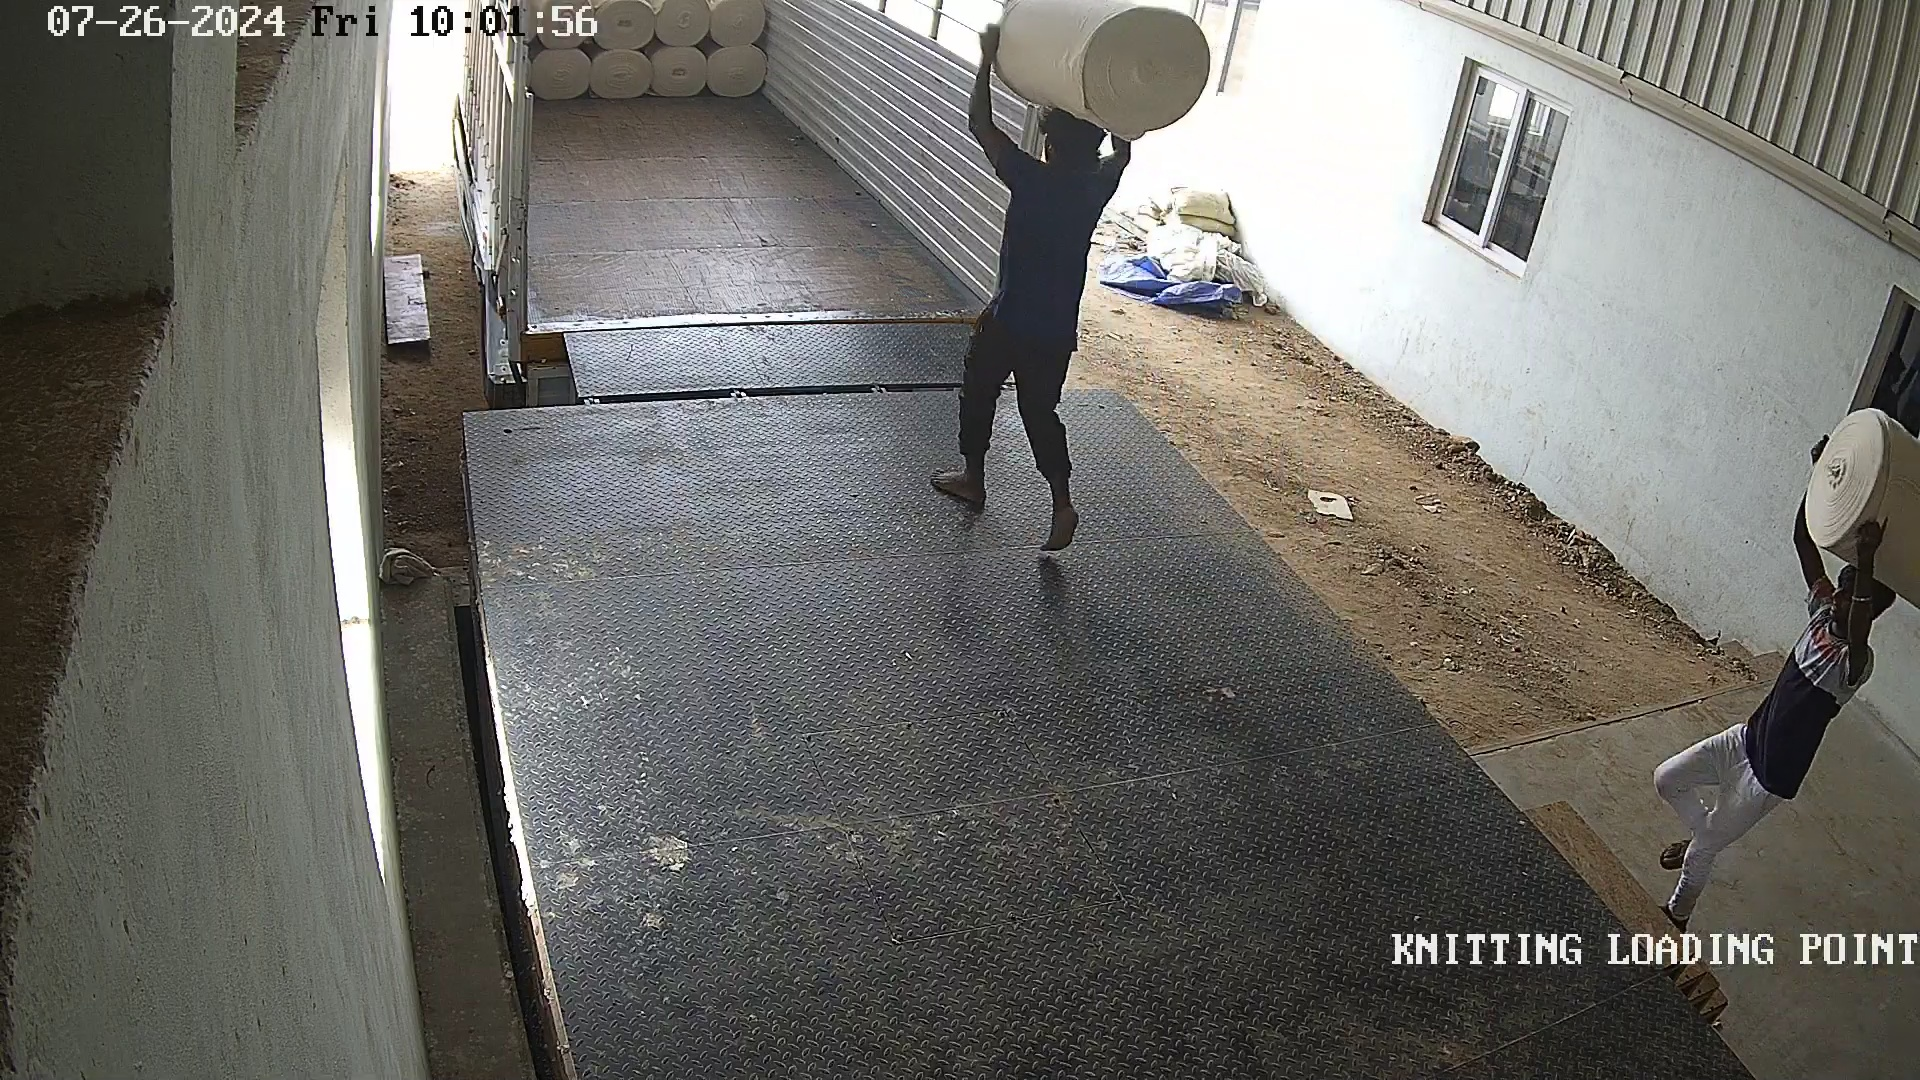bag: (978, 1, 1220, 146)
